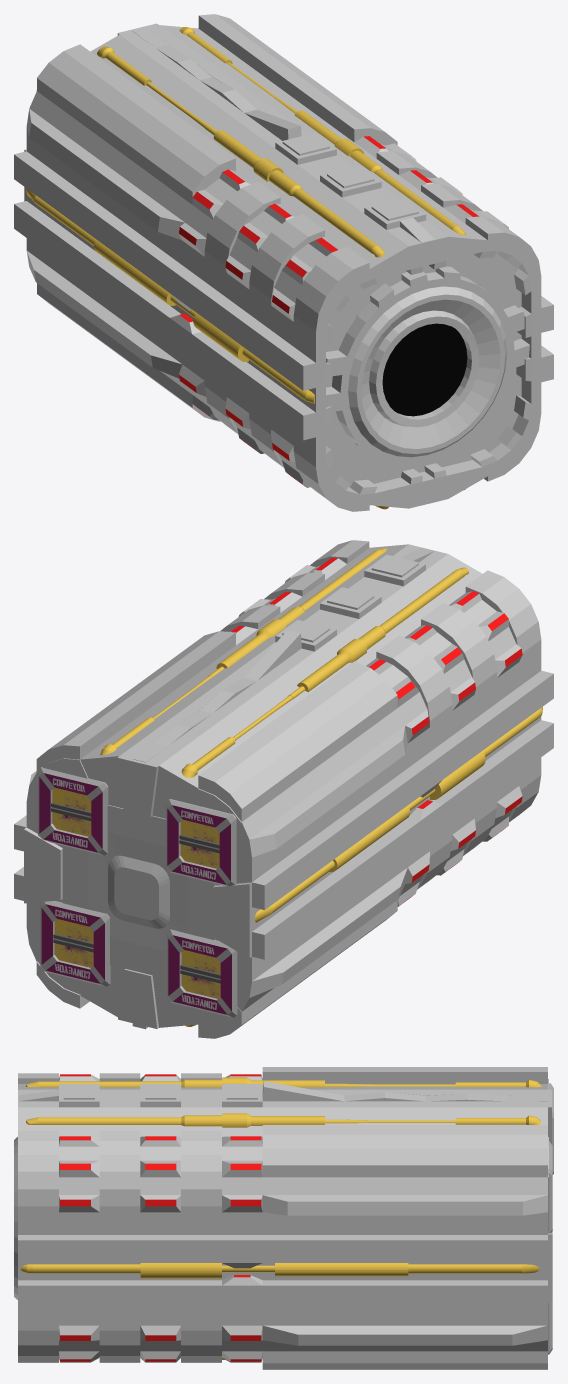
Rendered from Souper_R8EA_Launcher.fbx.
The picture shows the model from 3 angles, top to bottom: view 1: azimuth 30°, elevation 25°; view 2: azimuth 150°, elevation 25°; view 3: azimuth 270°, elevation 25°; orthographic projection. The views are drawn at different scales.
Visible parts, largest first — view 1: Cube.001, Cylinder.055, Cylinder.005, Cylinder.001, Cylinder.004; view 2: Cube.001, Cube.068, Cube.002, Cube.067, Cube.066, Cylinder.005, Cylinder.001, Cylinder.004; view 3: Cube.001, Cylinder, Cylinder.004, Cylinder.005, Cylinder.055, Cube.067.
Boxes of the visible parts, x1,y1,x2,y2 form: Cube.001: (14,14,553,511); Cylinder.055: (326,266,529,465); Cylinder.005: (97,46,385,257); Cylinder.001: (26,188,314,403); Cylinder.004: (179,27,465,235); Cube.001: (14,540,553,1038); Cube.068: (166,799,236,886); Cube.002: (167,929,237,1017); Cube.067: (38,767,108,855); Cube.066: (40,901,110,986); Cylinder.005: (181,567,468,777); Cylinder.001: (254,707,542,922); Cylinder.004: (100,548,387,755); Cube.001: (18,1067,552,1369); Cylinder: (21,1263,539,1278); Cylinder.004: (26,1113,541,1127); Cylinder.005: (25,1077,542,1087); Cylinder.055: (14,1137,17,1299); Cube.067: (548,1141,552,1232).
Size of the model in its own units: 4.94 by 5.39 by 10.07.
